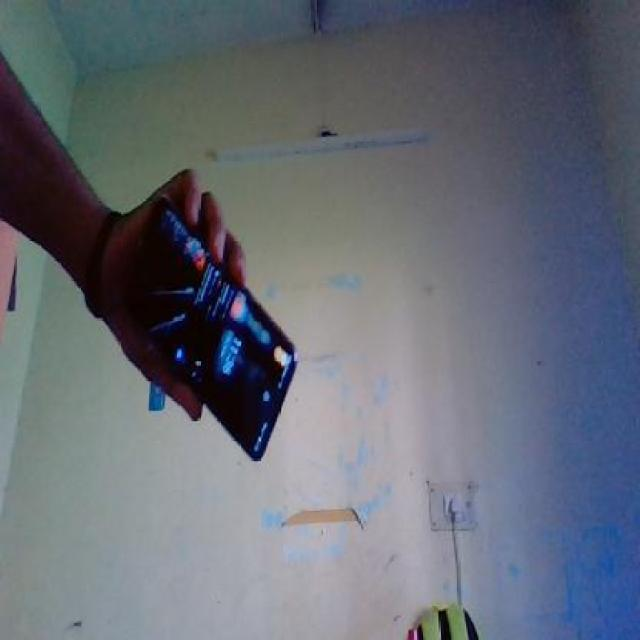Phone: (108, 192, 302, 466)
